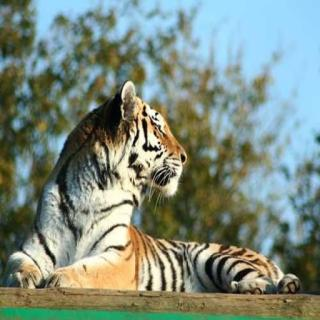Tiger: (0, 75, 305, 296)
